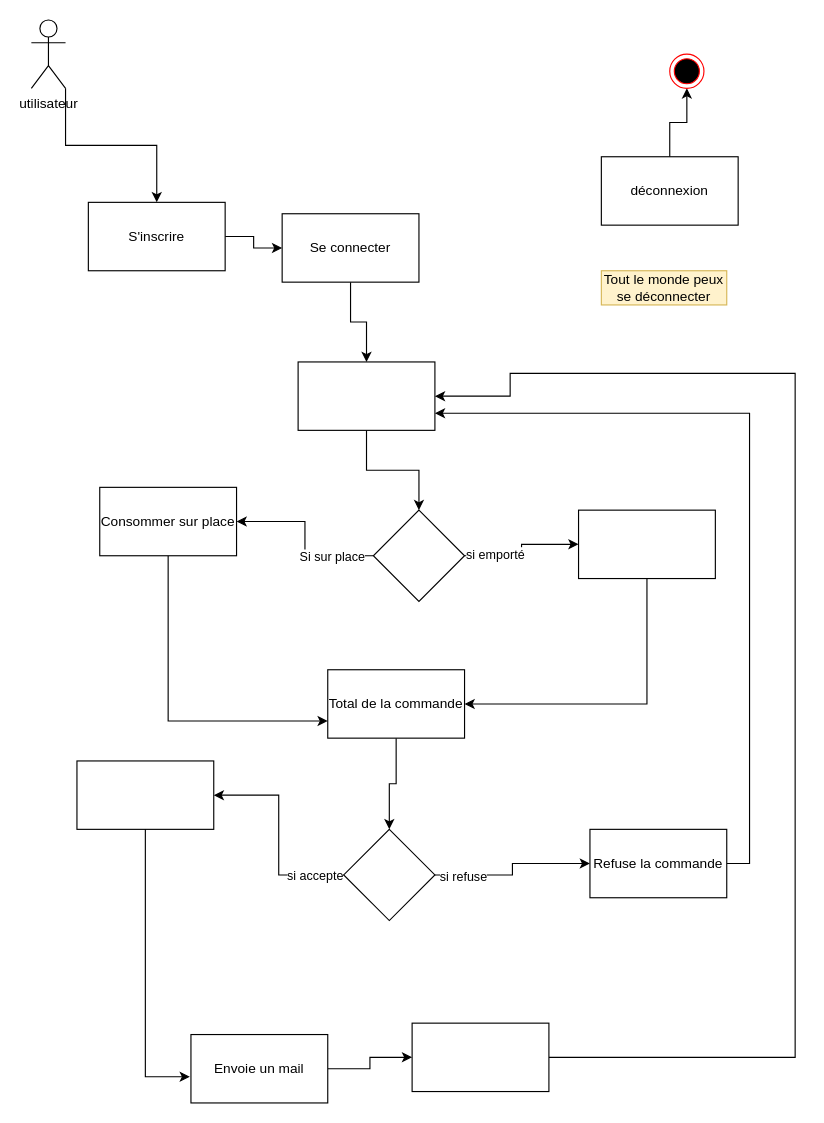
Some shapes in this 824 by 1123 pixel diagram are drawn without their labels. The shapes that lost their labels are listed below. From the top down, each one's centre as x and y in pixels, then its label:
At point 366,395: "Liste des produits et commande des quantités".
At point 646,544: "A emporter".
At point 145,794: "Accepte la command".
At point 480,1057: "Commande retirée".
